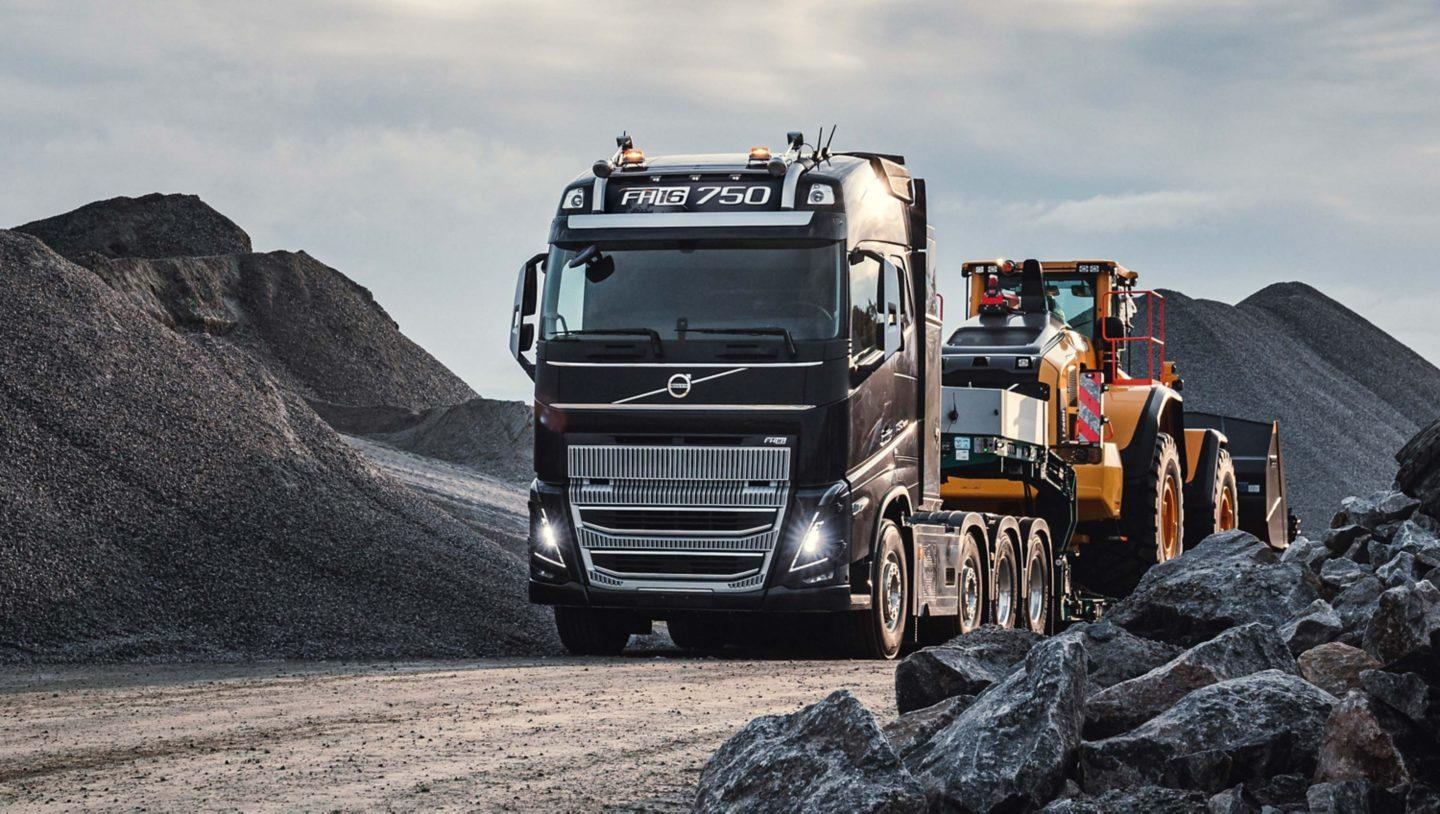truck: (509, 133, 1055, 660)
